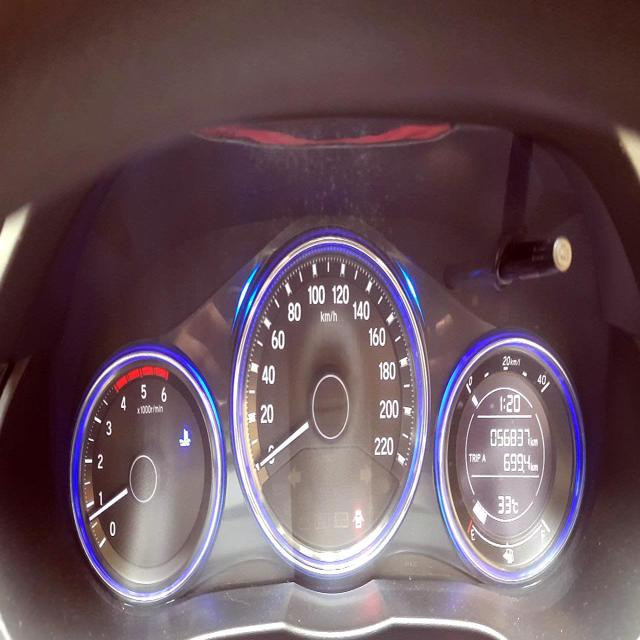odometer: (489, 425, 530, 449)
